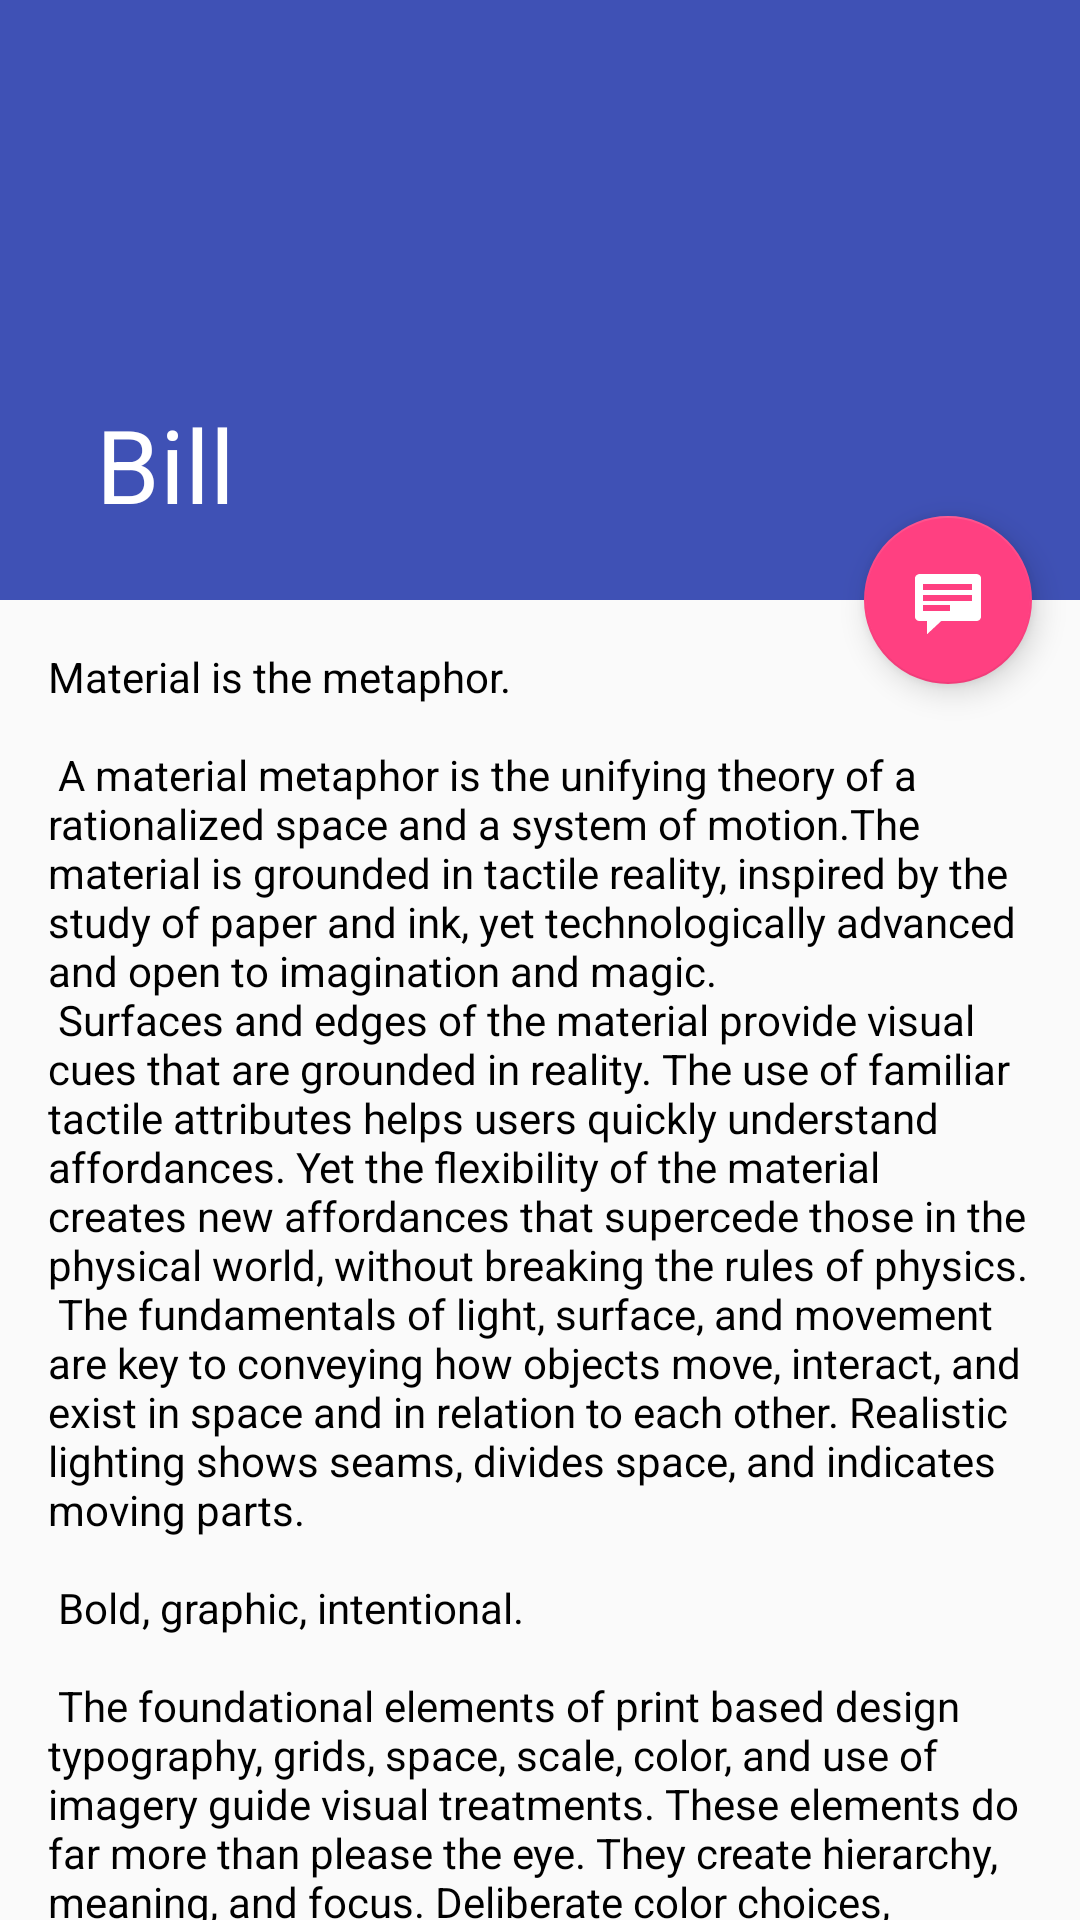

Point at icon controls on the screen. Image size 1080 x 1920, points as point (x, y).
chat: point (948, 600)
